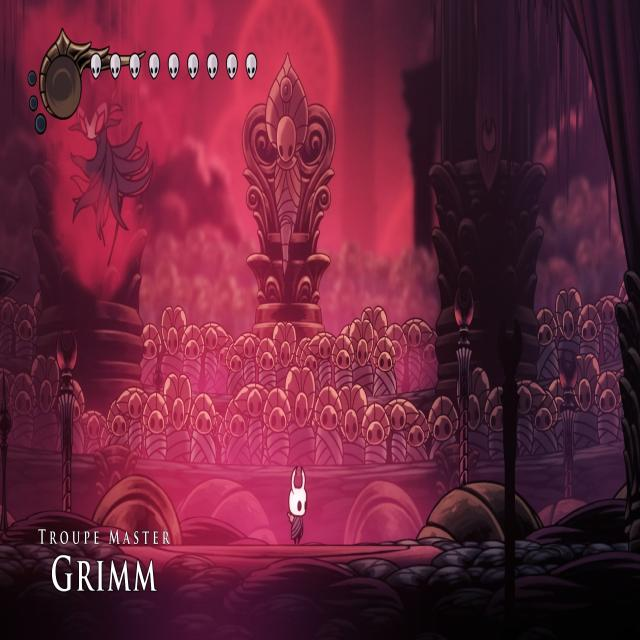Dive Dash: (66, 68, 157, 274)
Player: (282, 458, 311, 550)
